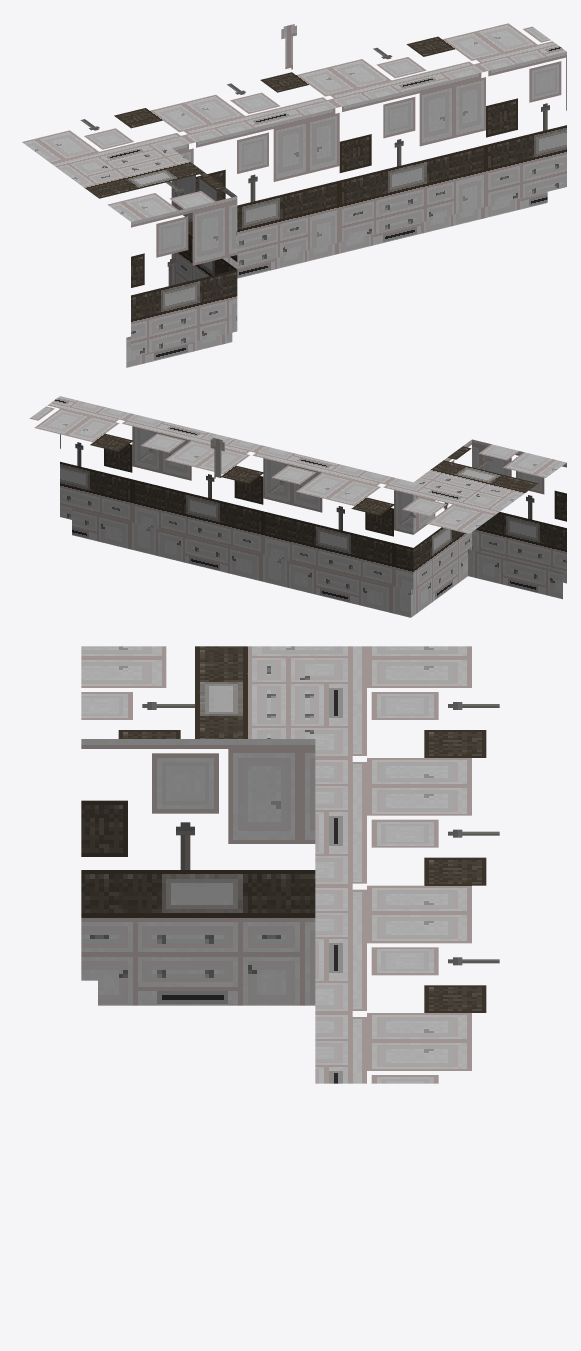
The model's file is BGN_KITCHEN CABINET .fbx.
The picture shows the model from 3 angles, top to bottom: view 1: azimuth 30°, elevation 25°; view 2: azimuth 150°, elevation 25°; view 3: azimuth 270°, elevation 25°; orthographic projection. The views are drawn at different scales.
Parts seen in each view (by area): view 1: BGN_KITCHEN_CABINET_; view 2: BGN_KITCHEN_CABINET_; view 3: BGN_KITCHEN_CABINET_.
Part boxes in pixels (x1,y1,x2,y2): BGN_KITCHEN_CABINET_: [22, 23, 566, 367]; BGN_KITCHEN_CABINET_: [29, 396, 566, 617]; BGN_KITCHEN_CABINET_: [81, 646, 499, 1083].
Size of the model in its own units: 339 by 125 by 137.
Materials: 1 (1 with a texture image).
